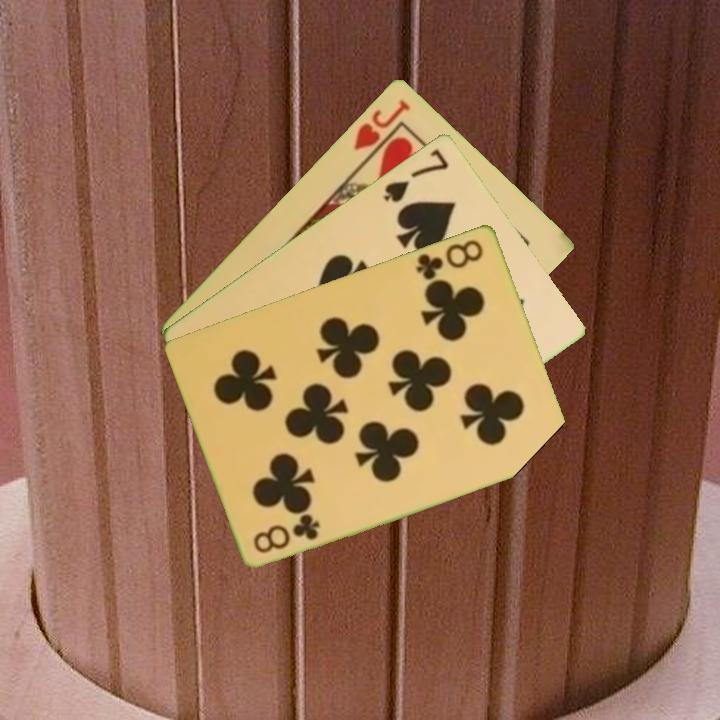7s: (379, 144, 452, 205)
8c: (412, 235, 487, 283), (250, 510, 323, 556)
Jh: (349, 95, 414, 153)
